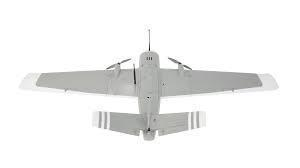Airplane: (15, 27, 284, 145)
